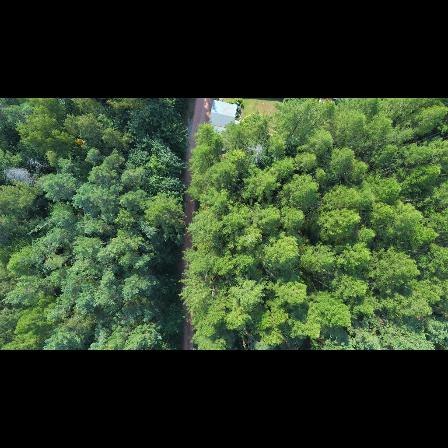Dead: (3, 164, 37, 188), (28, 153, 50, 172), (248, 141, 266, 164)
